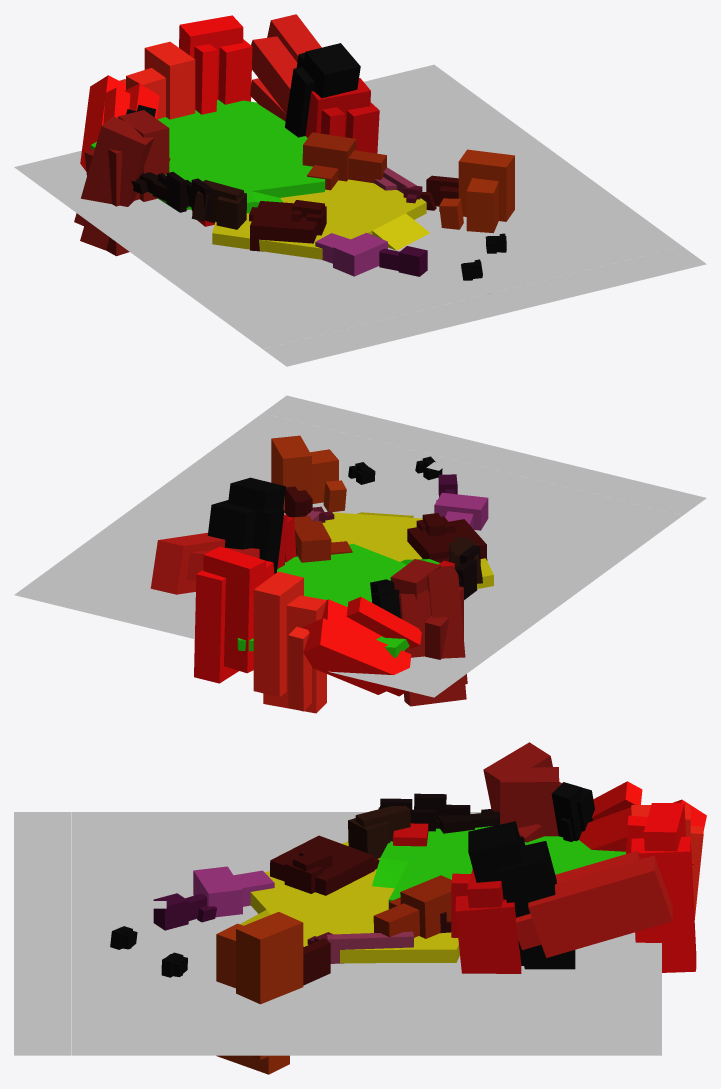
File: Ground.obj
3 renders of one model, top to bottom at view 1: azimuth 30°, elevation 25°; view 2: azimuth 150°, elevation 25°; view 3: azimuth 270°, elevation 25°, orthographic. The views are drawn at different scales.
Parts seen in each view (by area): view 1: 岩_立方体.019, 円柱, 円柱.001_円柱.002, 立方体.002; view 2: 岩_立方体.019, 円柱, 立方体.002, 円柱.001_円柱.002, 立方体.001_立方体.005; view 3: 岩_立方体.019, 円柱.001_円柱.002, 立方体.002, 円柱, 立方体.001_立方体.005, 立方体.
Boxes of the visible parts, left/top/right/bottom form: 岩_立方体.019: left=74, top=14, right=514, bottom=280; 円柱: left=90, top=99, right=325, bottom=213; 円柱.001_円柱.002: left=212, top=179, right=429, bottom=259; 立方体.002: left=285, top=43, right=360, bottom=137; 岩_立方体.019: left=150, top=435, right=488, bottom=713; 円柱: left=237, top=543, right=439, bottom=657; 立方体.002: left=207, top=477, right=285, bottom=573; 円柱.001_円柱.002: left=322, top=512, right=493, bottom=588; 立方体.001_立方体.005: left=370, top=579, right=400, bottom=618; 岩_立方体.019: left=110, top=742, right=706, bottom=1074; 円柱.001_円柱.002: left=240, top=841, right=459, bottom=963; 立方体.002: left=468, top=821, right=575, bottom=969; 円柱: left=372, top=826, right=625, bottom=908; 立方体.001_立方体.005: left=551, top=782, right=594, bottom=841; 立方体: left=393, top=823, right=428, bottom=846.
Bounding box in the file's own units: 652 × 248 × 784.
